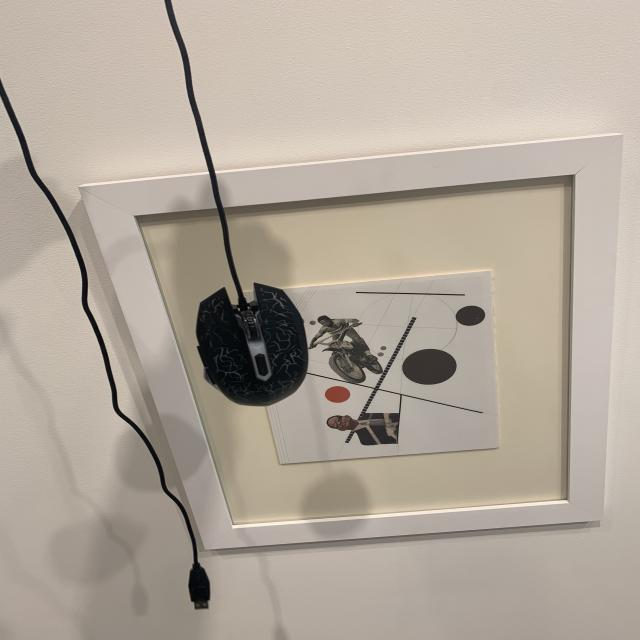Mouse: (186, 276, 321, 422)
